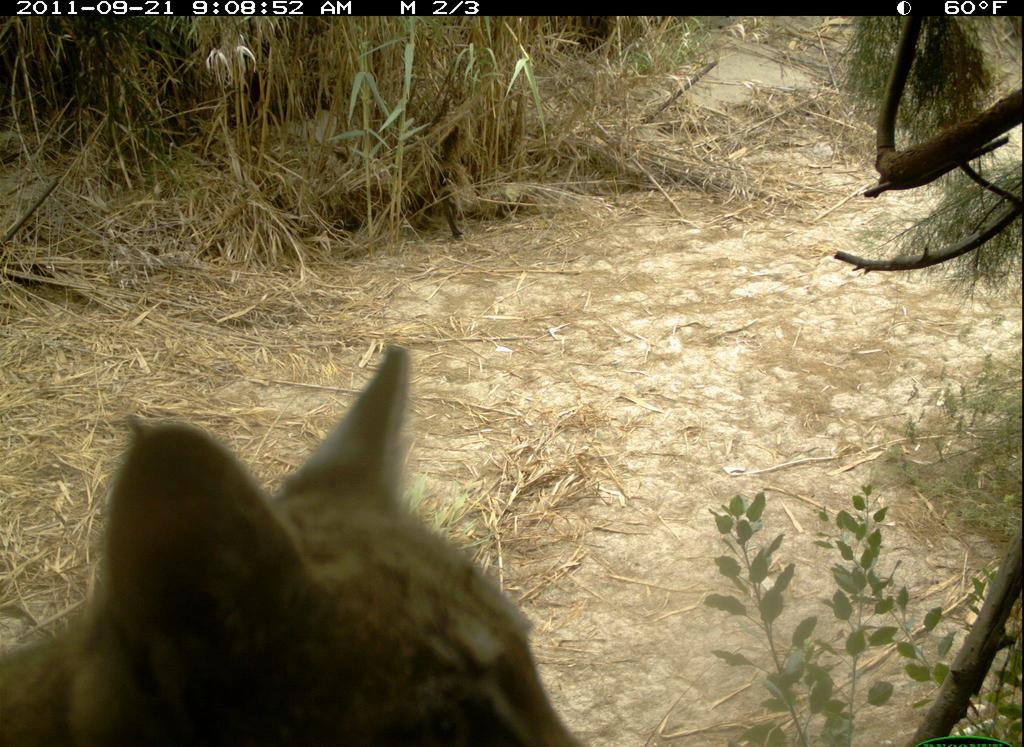bobcat: (1, 340, 594, 745)
